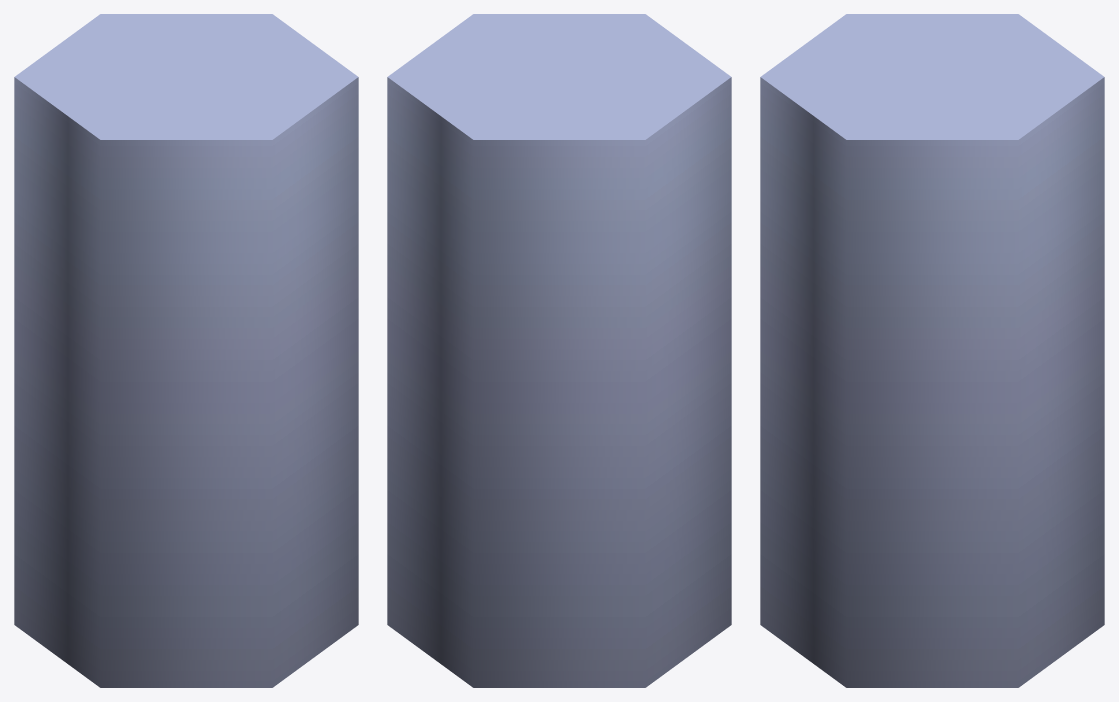
Rendered from core_pipe.glb.
3 views of the same model, side by side, from view 1: azimuth 30°, elevation 25°; view 2: azimuth 150°, elevation 25°; view 3: azimuth 270°, elevation 25° (orthographic).
Visible parts, largest first — view 1: pipe; view 2: pipe; view 3: pipe.
Boxes of the visible parts, box(x1,y1,x2,y2) form: pipe: box(14, 14, 358, 687); pipe: box(387, 14, 731, 687); pipe: box(760, 14, 1104, 687).
Size of the model in its own units: 0.2464 by 0.5 by 0.2845.
1 material, 1 textured.
